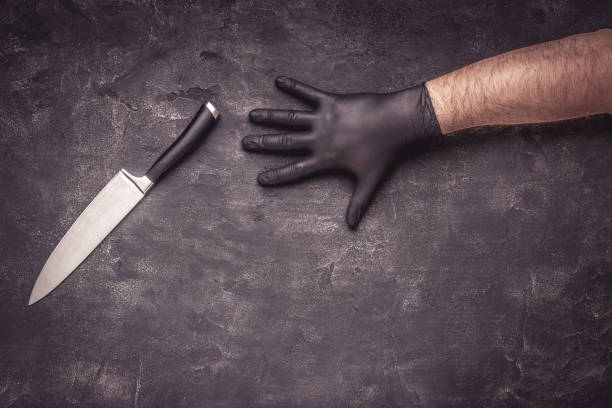knife: (25, 96, 223, 308)
